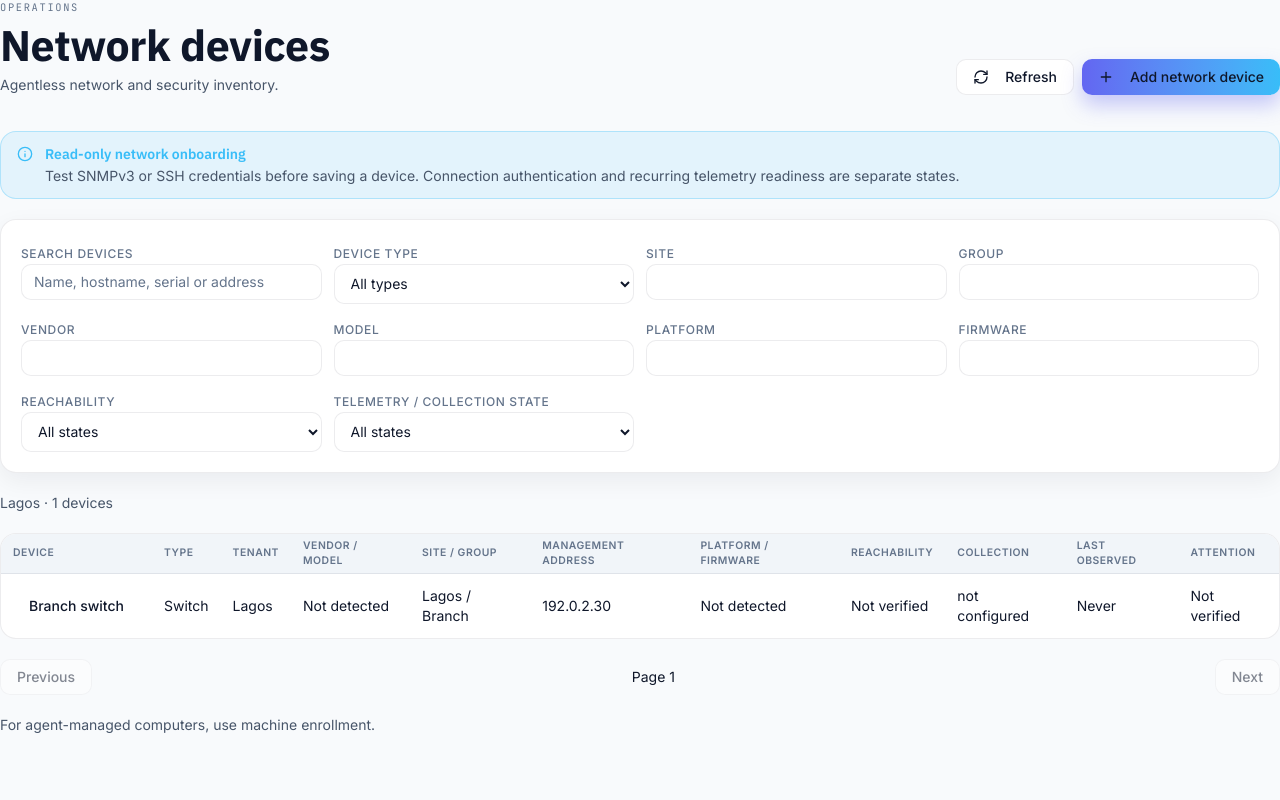
Test: Network device workflow › retains the form and surfaces a failed save without claiming success
This screenshot has width=1280, height=800.
Click the button "Add network device".
click(1181, 77)  # box x1=1082 y1=59 x2=1279 y2=95
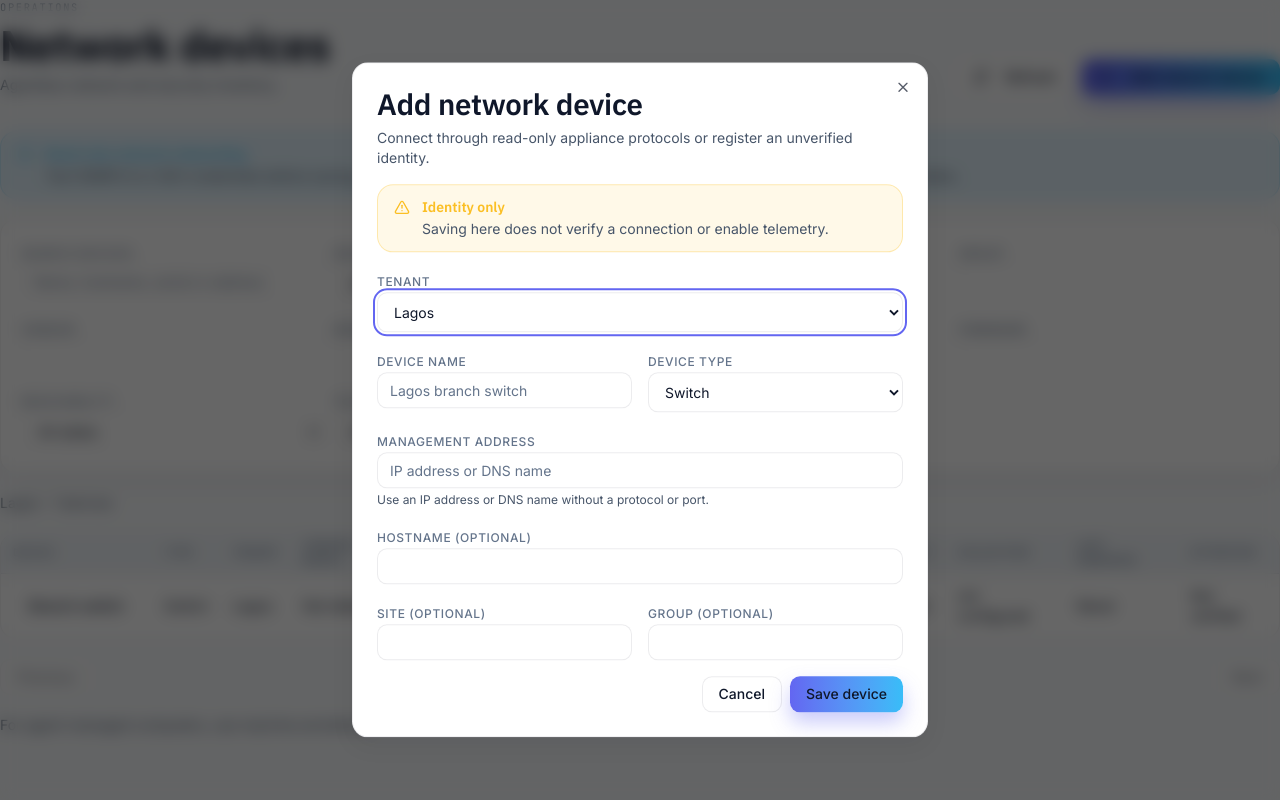
Type "Branch switch" into the field labelled "Device name".
click(504, 391); type("Branch switch")  # box x1=377 y1=373 x2=632 y2=409
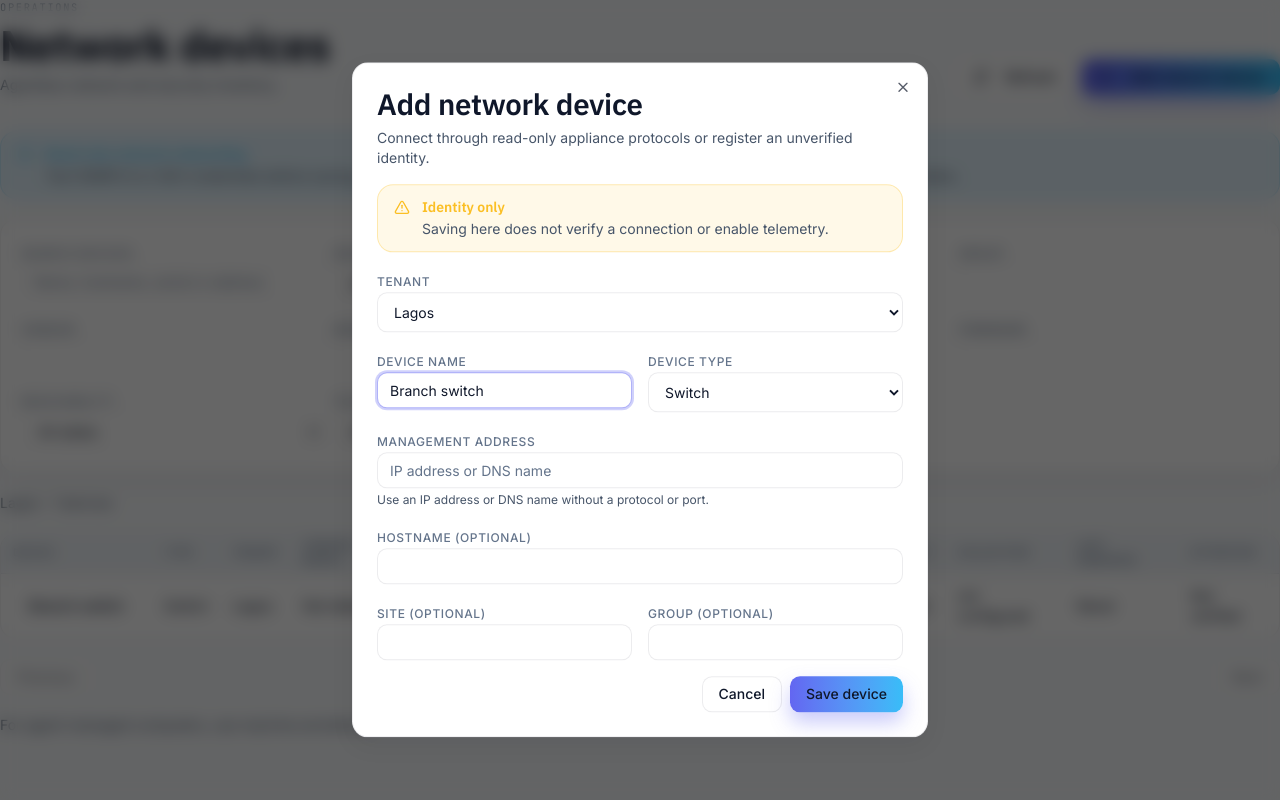
Type "https://switch" into the field labelled "Management address".
click(640, 471); type("https://switch")  # box x1=377 y1=453 x2=903 y2=489
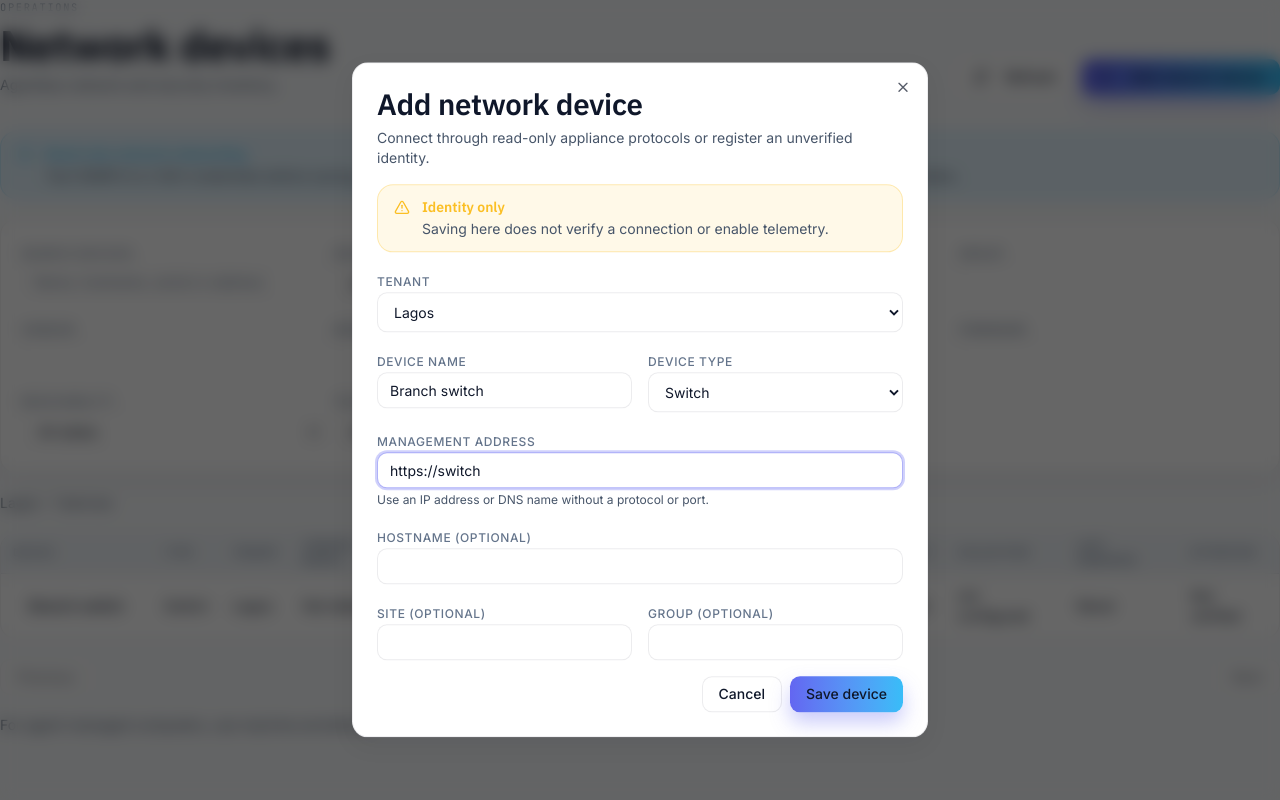
Click the button "Save device".
click(846, 695)  # box x1=790 y1=677 x2=903 y2=713
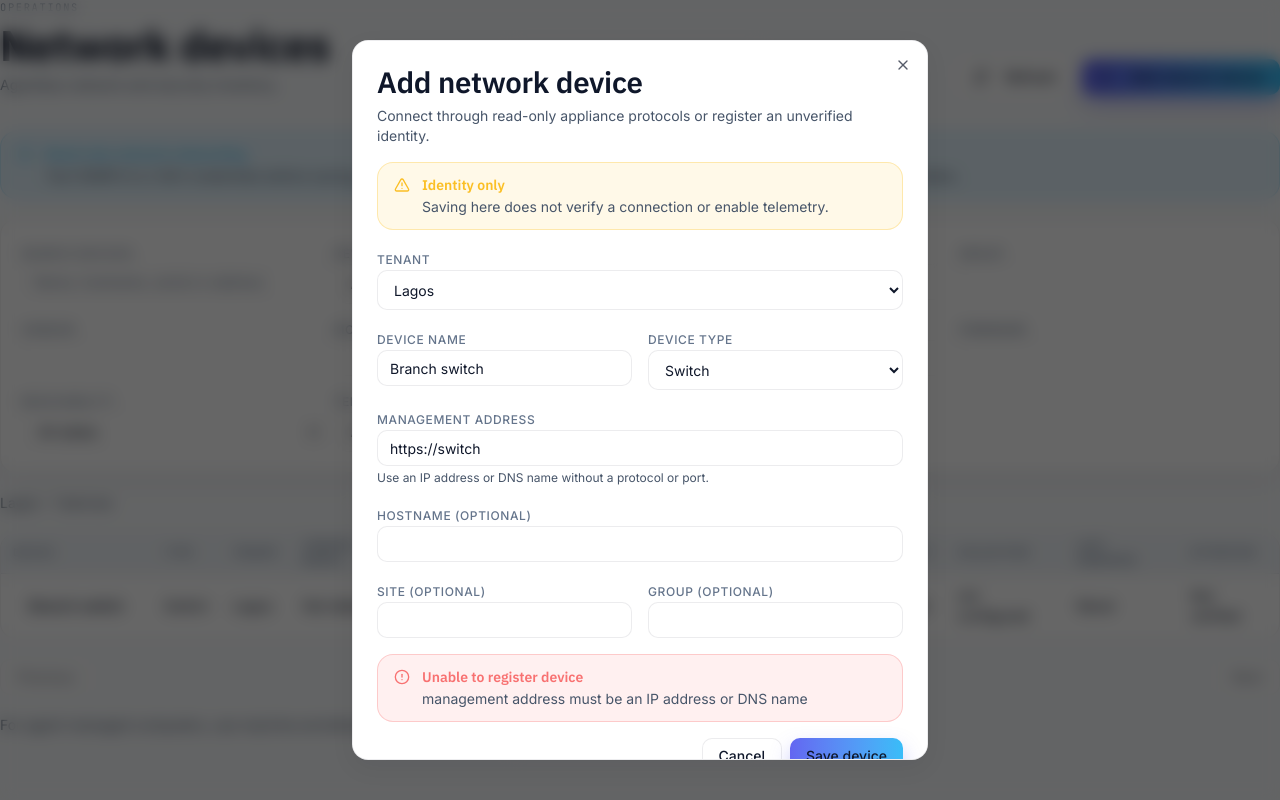
Check: the text "management address must be an IP address or DNS name" is shown, box x1=422 y1=690 x2=808 y2=707
